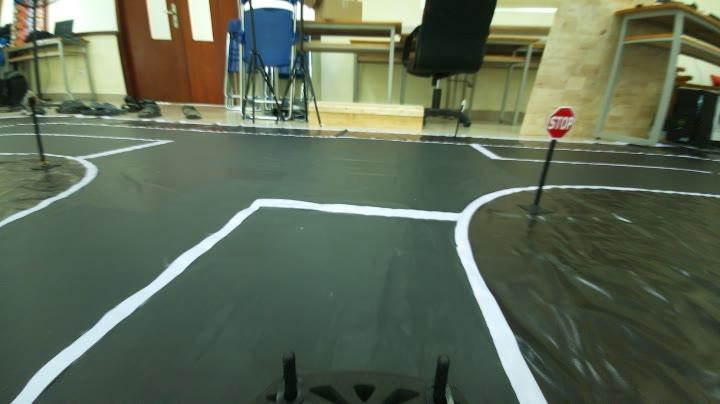stop: (544, 102, 576, 142)
